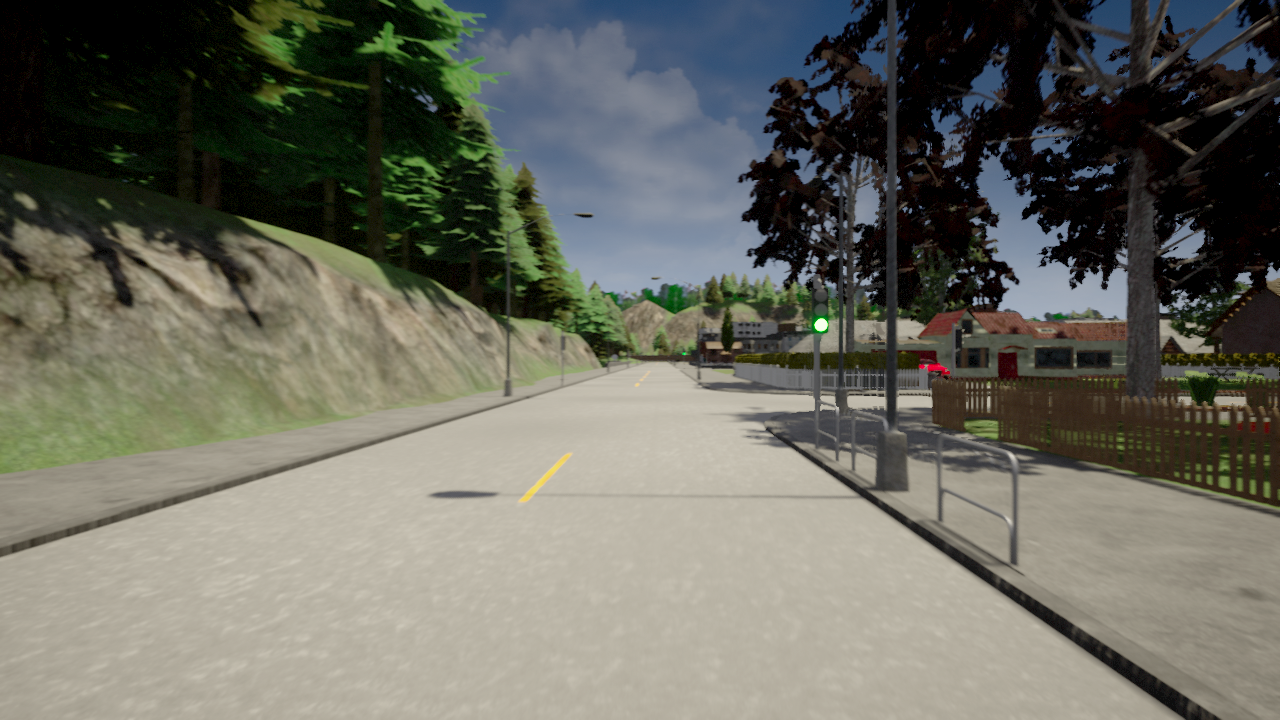green: (810, 287, 830, 334)
